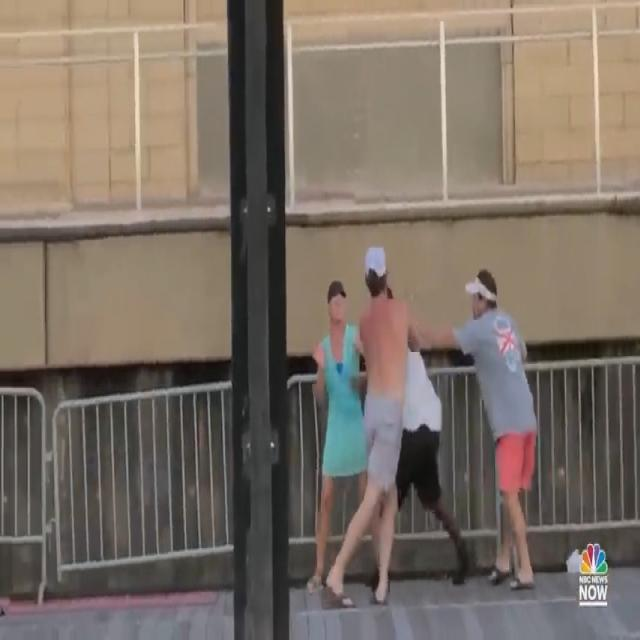fight: (304, 230, 544, 615)
